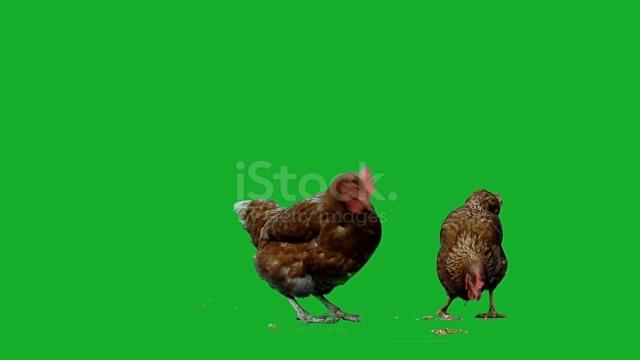Normal: (232, 162, 383, 325), (431, 186, 510, 320)
